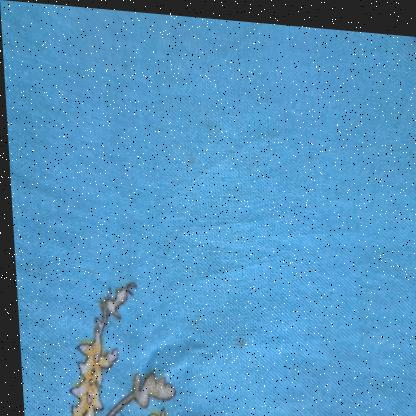spot: (226, 318, 252, 362), (300, 132, 318, 171), (119, 49, 134, 84), (186, 139, 199, 161)
